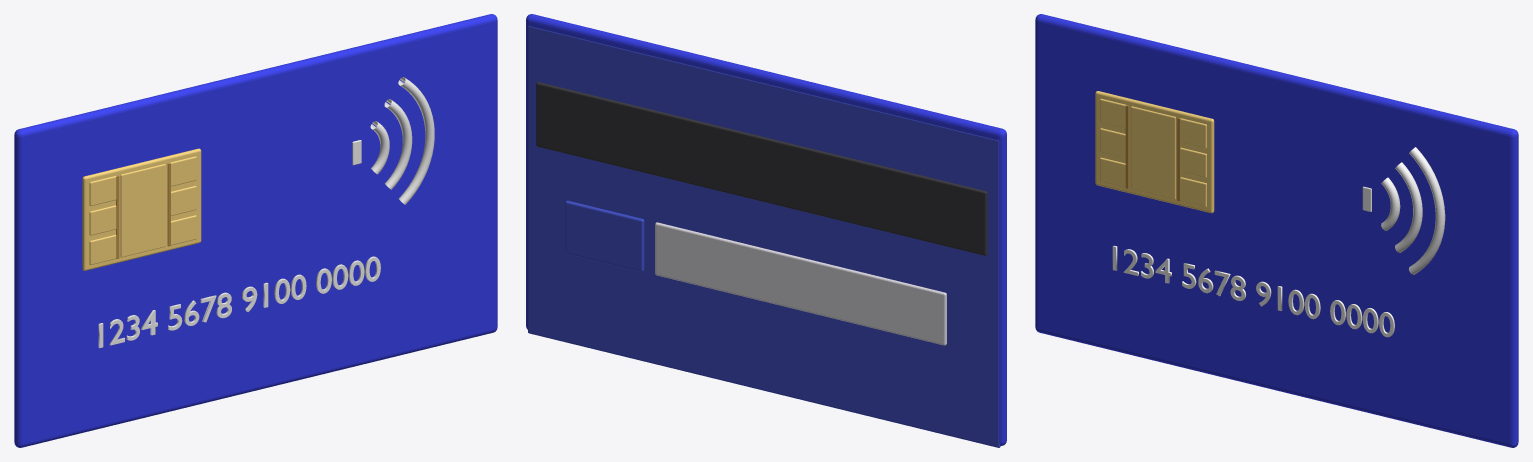
The model's file is credit_card.glb.
The picture shows the model from 3 angles, left to right: view 1: azimuth 30°, elevation 25°; view 2: azimuth 150°, elevation 25°; view 3: azimuth 330°, elevation 25°; orthographic projection.
Visible parts, largest first — view 1: Card_Body, Card_ChipCenter, Card_Number, Card_Chip, Card_NFC_3, Card_NFC_2, Card_ChipSegment_0, Card_ChipSegment_4, Card_ChipSegment_2, Card_ChipSegment_1, Card_ChipSegment_3, Card_ChipSegment_5 (+1 smaller); view 2: Card_LowerEdge, Card_BackStripe, Card_Signature, Card_Body, Card_SecurityBlock; view 3: Card_Body, Card_ChipCenter, Card_Number, Card_Chip, Card_NFC_3, Card_NFC_2, Card_ChipSegment_1, Card_ChipSegment_5, Card_ChipSegment_3, Card_ChipSegment_0, Card_ChipSegment_2, Card_ChipSegment_4 (+1 smaller).
Boxes of the visible parts, left/top/right/bottom form: Card_Body: left=14, top=14, right=497, bottom=447; Card_ChipCenter: left=120, top=164, right=165, bottom=257; Card_Number: left=98, top=256, right=380, bottom=348; Card_Chip: left=82, top=148, right=201, bottom=270; Card_NFC_3: left=398, top=77, right=434, bottom=204; Card_NFC_2: left=384, top=99, right=412, bottom=189; Card_ChipSegment_0: left=89, top=176, right=116, bottom=206; Card_ChipSegment_4: left=89, top=234, right=116, bottom=264; Card_ChipSegment_2: left=89, top=205, right=116, bottom=235; Card_ChipSegment_1: left=170, top=156, right=196, bottom=186; Card_ChipSegment_3: left=171, top=185, right=196, bottom=215; Card_ChipSegment_5: left=171, top=215, right=196, bottom=245; Card_LowerEdge: left=528, top=26, right=1000, bottom=447; Card_BackStripe: left=536, top=82, right=987, bottom=255; Card_Signature: left=655, top=222, right=946, bottom=345; Card_Body: left=526, top=14, right=1006, bottom=445; Card_SecurityBlock: left=565, top=200, right=644, bottom=271; Card_Body: left=1035, top=14, right=1518, bottom=447; Card_ChipCenter: left=1131, top=106, right=1175, bottom=199; Card_Number: left=1112, top=245, right=1394, bottom=337; Card_Chip: left=1095, top=91, right=1214, bottom=213; Card_NFC_3: left=1409, top=147, right=1445, bottom=274; Card_NFC_2: left=1395, top=162, right=1422, bottom=252; Card_ChipSegment_1: left=1180, top=118, right=1206, bottom=148; Card_ChipSegment_5: left=1180, top=177, right=1206, bottom=207; Card_ChipSegment_3: left=1180, top=147, right=1206, bottom=177; Card_ChipSegment_0: left=1100, top=98, right=1126, bottom=128; Card_ChipSegment_2: left=1100, top=128, right=1125, bottom=158; Card_ChipSegment_4: left=1100, top=157, right=1125, bottom=187.
Bounding box in the file's own units: 0.0856 × 0.0541 × 0.00423.
